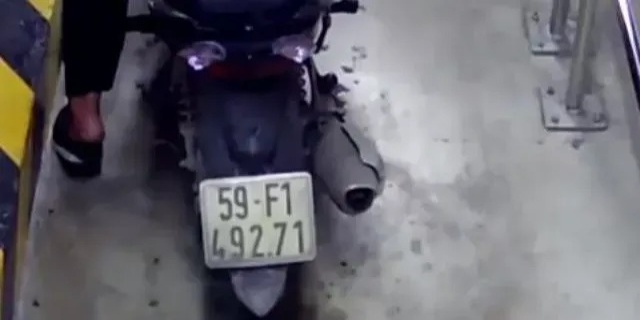bien_so: (199, 170, 312, 268)
